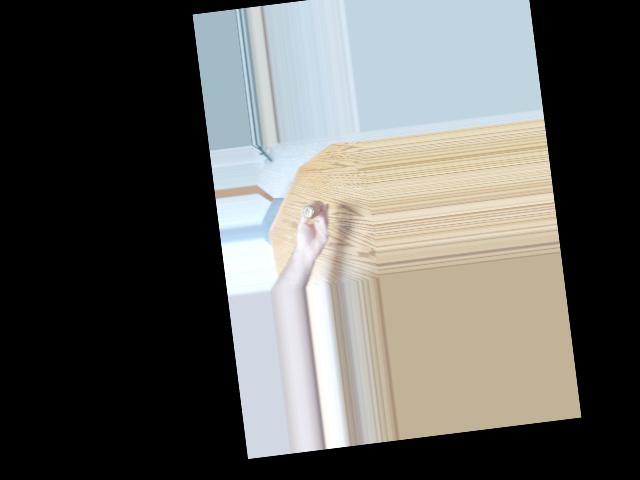sweet_potato: (296, 196, 326, 226)
